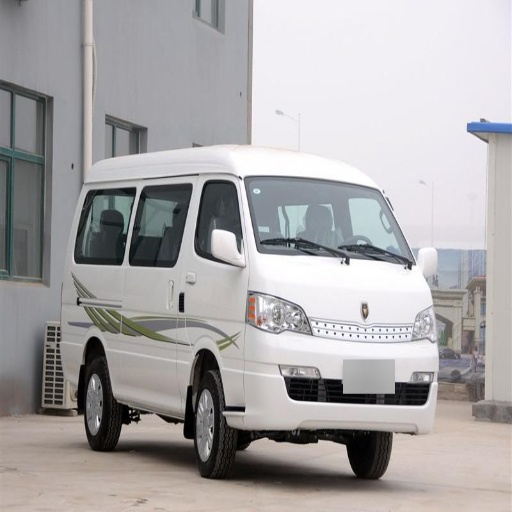back_glass: (140, 185, 190, 225)
front_bumper: (234, 319, 436, 431)
front_glass: (247, 178, 412, 266)
front_left_door: (119, 353, 177, 395)
front_right_door: (205, 178, 248, 288)
front_right_light: (248, 296, 310, 333)
hood: (269, 256, 431, 325)
